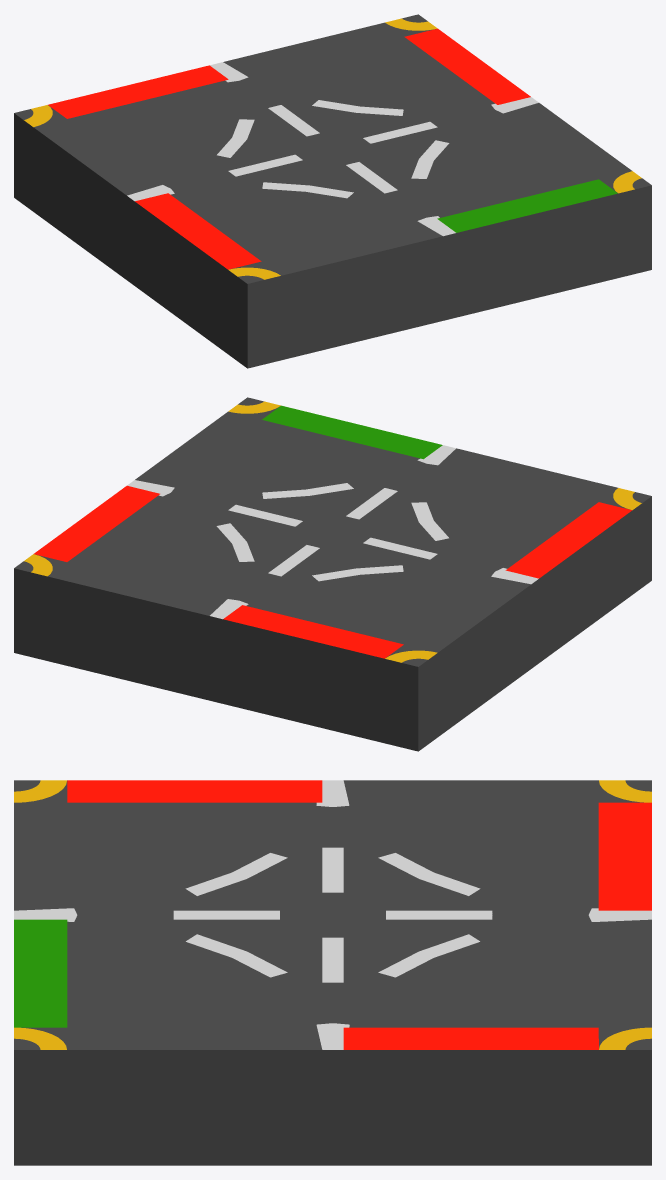
Rendered from 4way_GRRR_road.fbx.
The picture shows the model from 3 angles, top to bottom: view 1: azimuth 30°, elevation 25°; view 2: azimuth 150°, elevation 25°; view 3: azimuth 270°, elevation 25°; orthographic projection. The views are drawn at different scales.
Visible parts, largest first — view 1: Cube; view 2: Cube; view 3: Cube.
Part boxes in pixels (<box>): Cube: <box>14,14,651,368</box>; Cube: <box>14,397,651,751</box>; Cube: <box>14,780,651,1165</box>.
Bounding box in the file's own units: 100 × 20 × 100.
